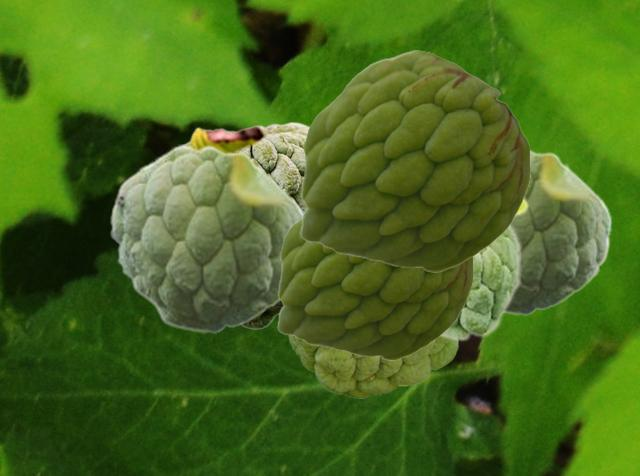atis: (300, 50, 529, 271), (109, 144, 305, 332), (277, 215, 472, 359), (183, 121, 307, 328), (506, 146, 612, 314), (439, 197, 529, 341), (288, 336, 460, 397)
